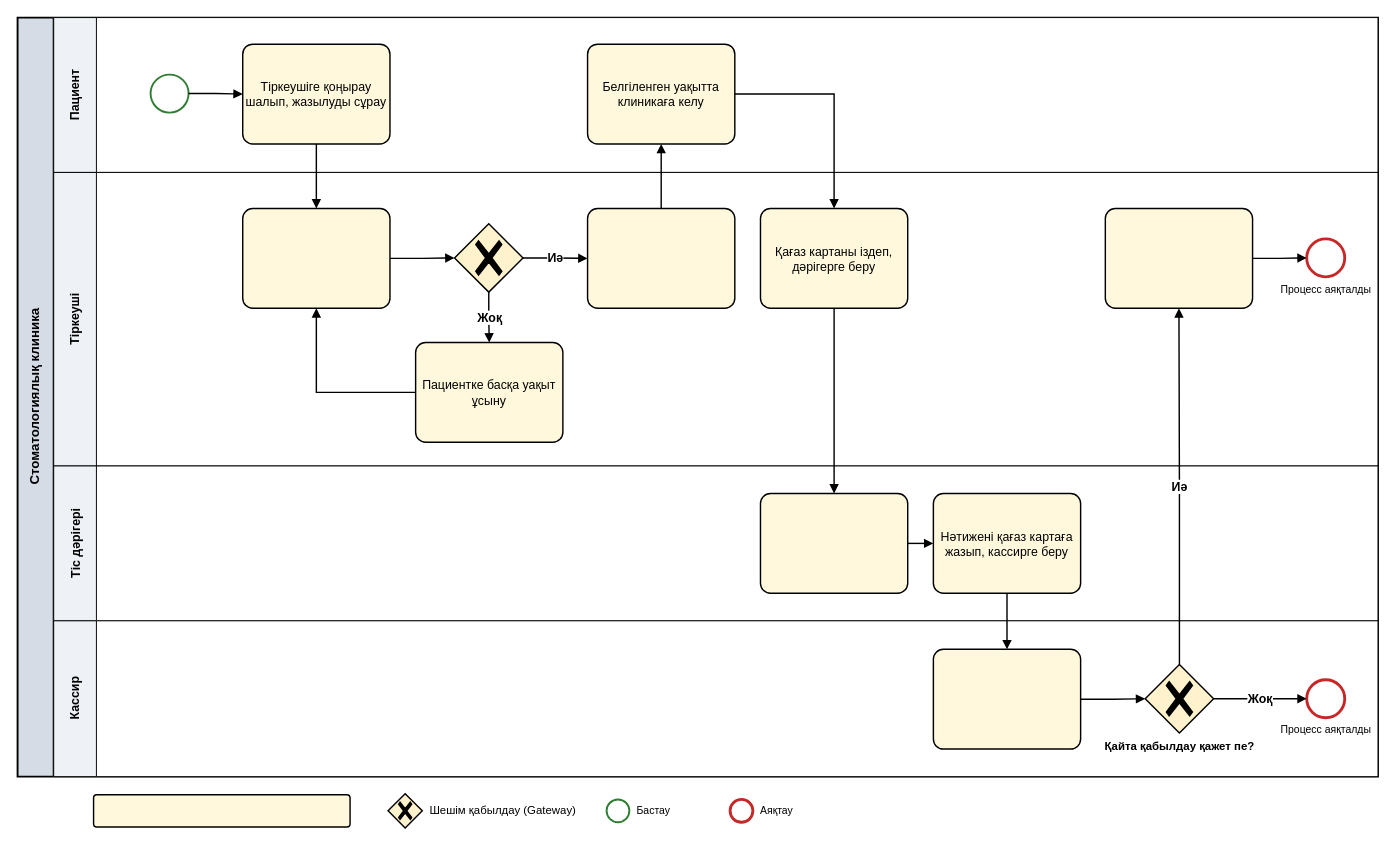
The diagram is 1395 pixels wide and 845 high, and some of its shapes have lost their labels. Here are the shapes that lost their labels. From the top down, the centre of each, then its label:
At pixel 169 93: "Пациентке ем қажет".
At pixel 316 258: "Қағаз журналдан бос уақытты тексеру".
At pixel 488 257: "Бос уақыт бар ма?".
At pixel 660 258: "Деректі қағаз картаға жазып, жазылымды тіркеу".
At pixel 1178 258: "Келесі жазылымды журналға тіркеу".
At pixel 833 543: "Тексеру, диагноз қою, емдеу жүргізу".
At pixel 1006 698: "Шотты қолмен жасап, төлем қабылдау".
At pixel 221 810: "Қолмен орындалатын әрекет".
